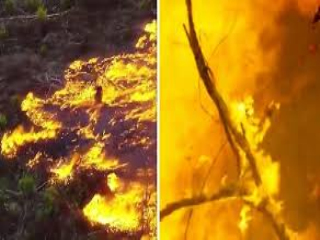fire: (11, 34, 153, 232), (223, 96, 296, 225)
